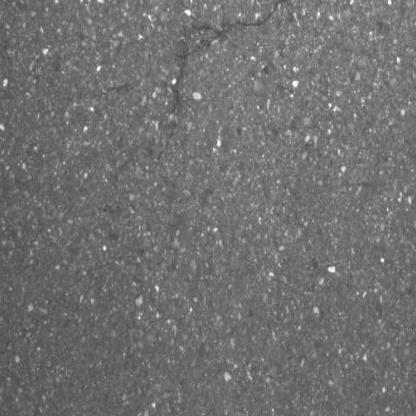Cracks: (155, 0, 310, 164)
